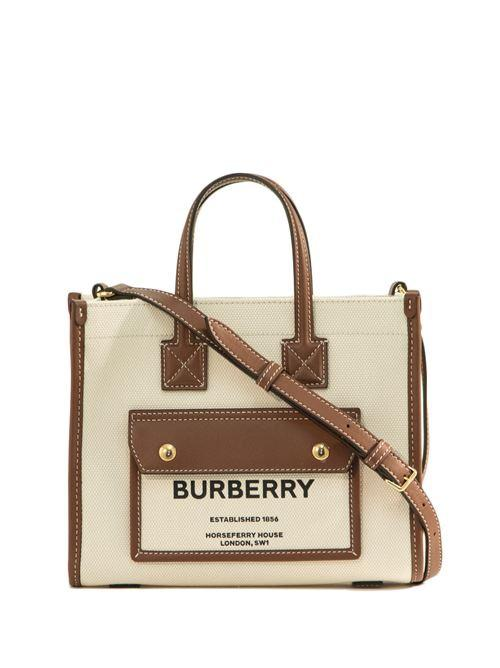BURBERRY: (173, 479, 315, 499)
